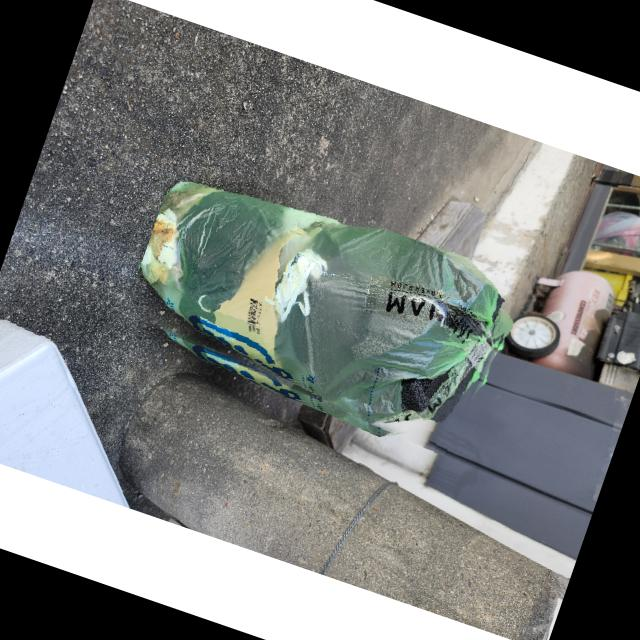general_trashbag: (137, 188, 508, 425)
